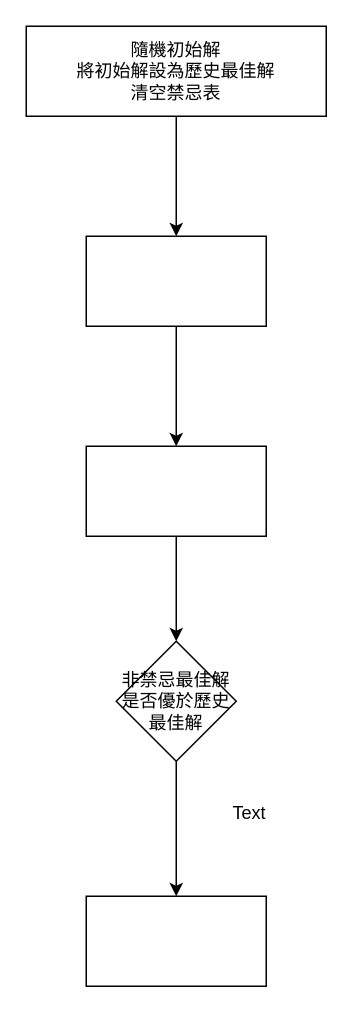
This 353x1013 diagram has some shape labels left out. Here are the shapes that lost their labels. From the top down, the box of each, then its label:
(85, 235, 266, 326): 決定鄰近解
(85, 445, 266, 536): 設定非禁忌最佳解 設定禁忌最佳解
